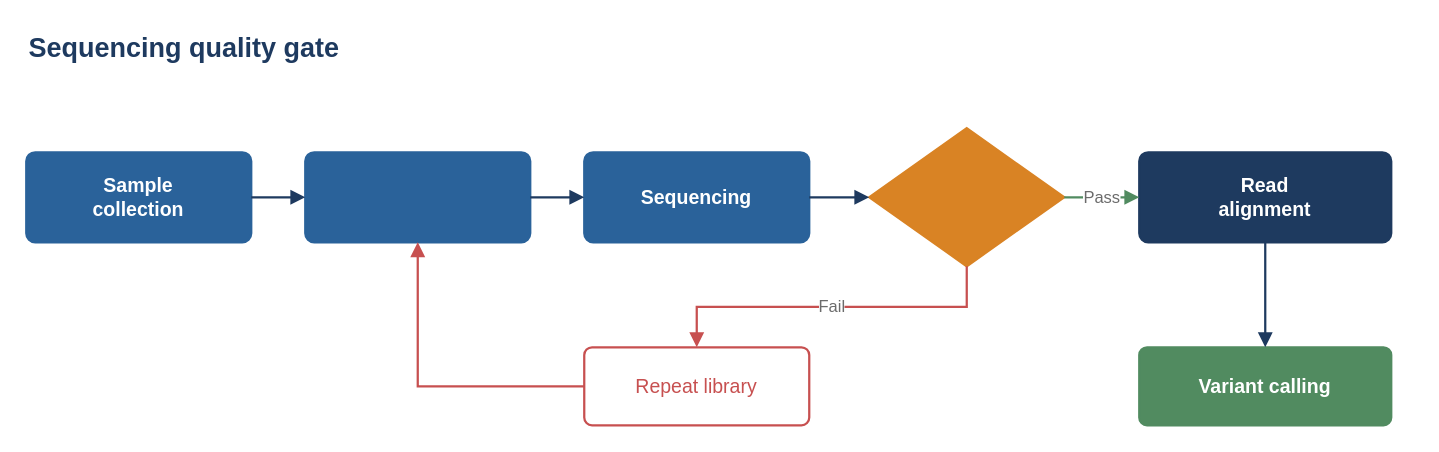
Image size: 1439x452. Some labels were removed from this diagram. The centre of each missing label's shape, as x and y in pixels:
Library prep: the point at 417,196
QC pass?: the point at 966,196
